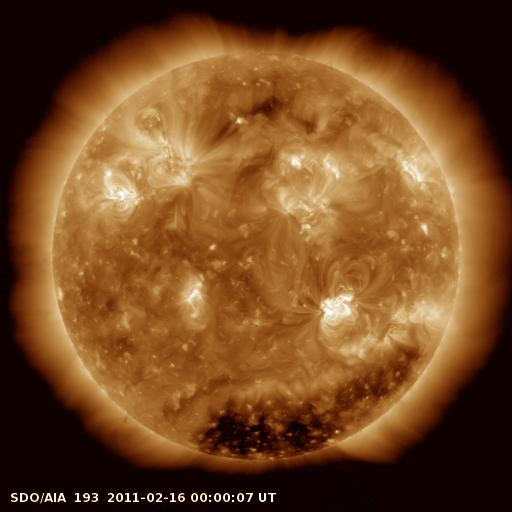coronal_hole: (192, 339, 420, 464)
